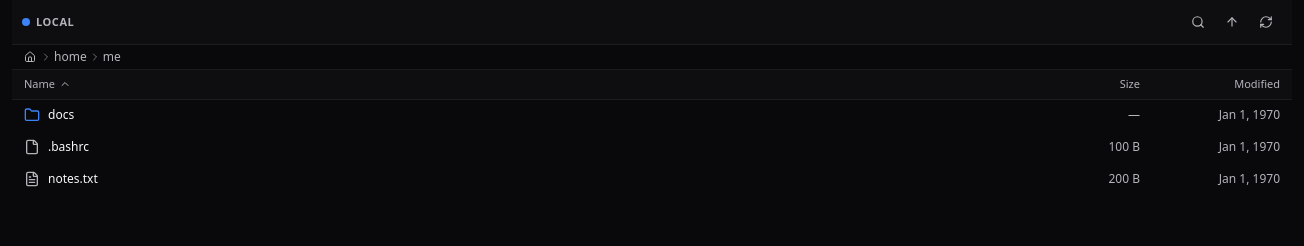
Scenario: FilePane filter › opens the filter input when the toggle is clicked
Check: the field with placeholder "Filter files..." is not shown
Click the button named "Filter files".
click(1198, 22)  # box top-left (1182, 6), bottom-right (1214, 38)
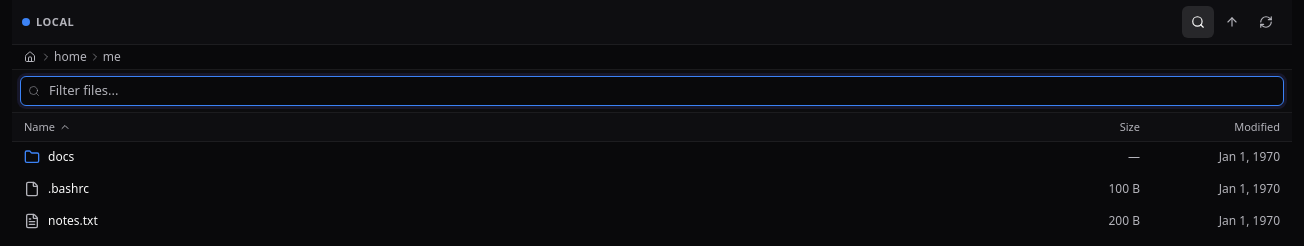
Check: the field with placeholder "Filter files..." is shown, box top-left (20, 76), bottom-right (1284, 106)
